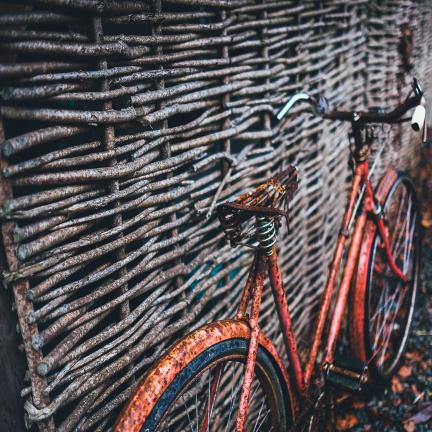karat: (113, 99, 421, 431)
